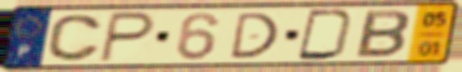6: (172, 11, 222, 62)
B: (352, 8, 413, 60)
C: (44, 13, 104, 63)
D: (294, 8, 358, 62), (227, 11, 282, 61)
P: (96, 10, 158, 65)
